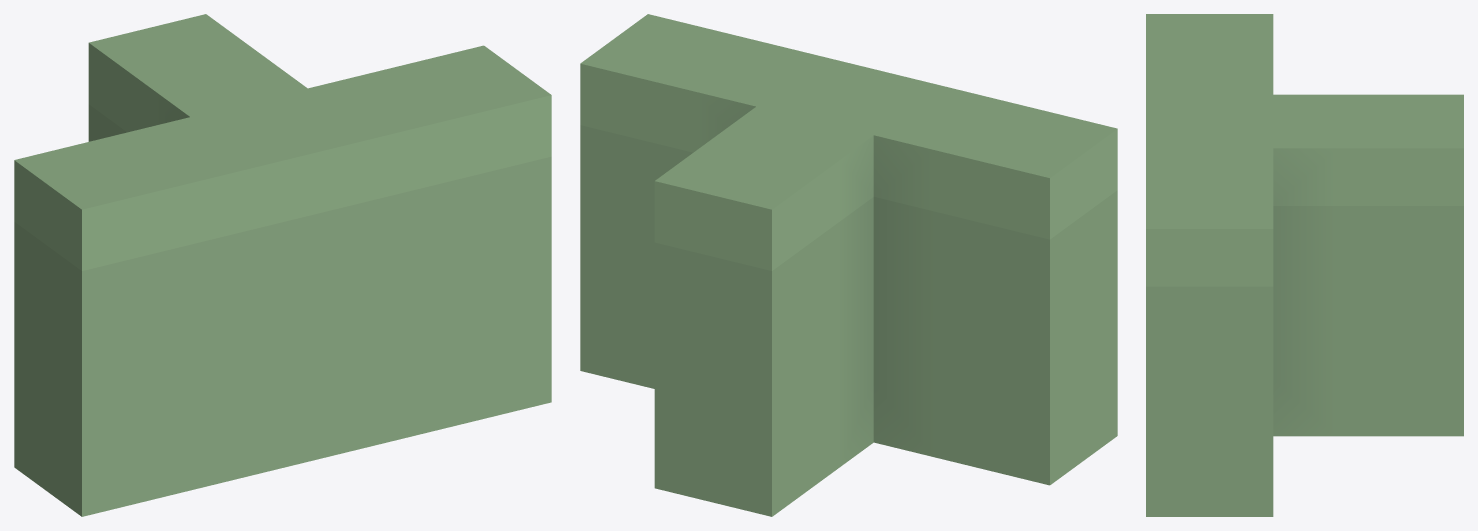
Rendered from hedge.t.glb.
The picture shows the model from 3 angles, left to right: view 1: azimuth 30°, elevation 25°; view 2: azimuth 150°, elevation 25°; view 3: azimuth 270°, elevation 25°; orthographic projection. The views are drawn at different scales.
Parts seen in each view (by area): view 1: hedge.t; view 2: hedge.t; view 3: hedge.t.
Part boxes in pixels (bbox=[...]): hedge.t: bbox=[14, 14, 551, 516]; hedge.t: bbox=[580, 14, 1117, 516]; hedge.t: bbox=[1146, 14, 1463, 516].
Size of the model in its own units: 1 by 0.625 by 0.625.
